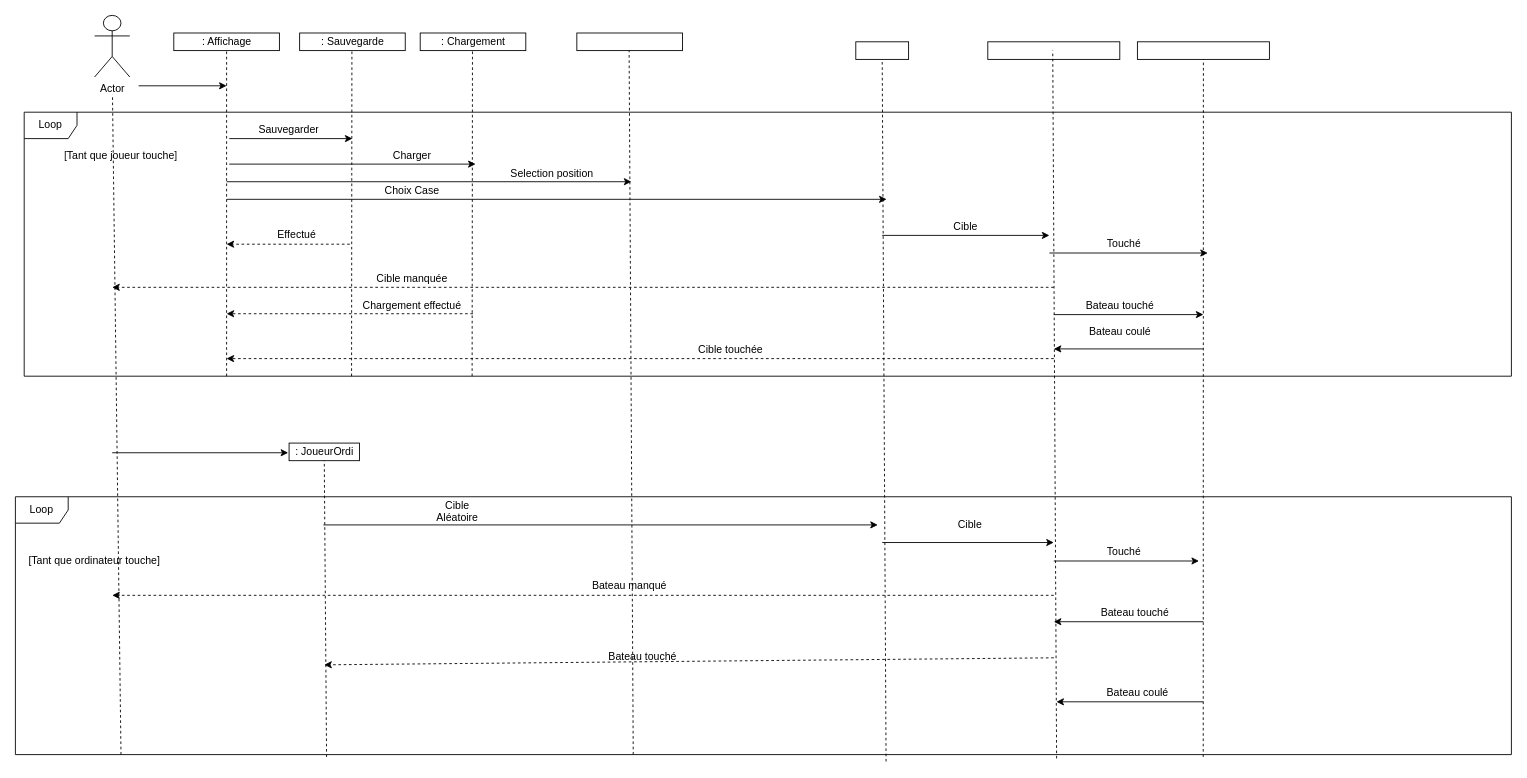
This 1527x778 diagram has some shape labels left out. The shapes that lost their labels are listed below. From the top down, each one's box as (x1, y1, x2, y2) in pixels, then its label:
(576, 32, 682, 51): : AjouterBateau
(855, 41, 909, 59): : Jeu
(987, 41, 1120, 59): : Grille Logique
(1137, 41, 1269, 59): : Personne
